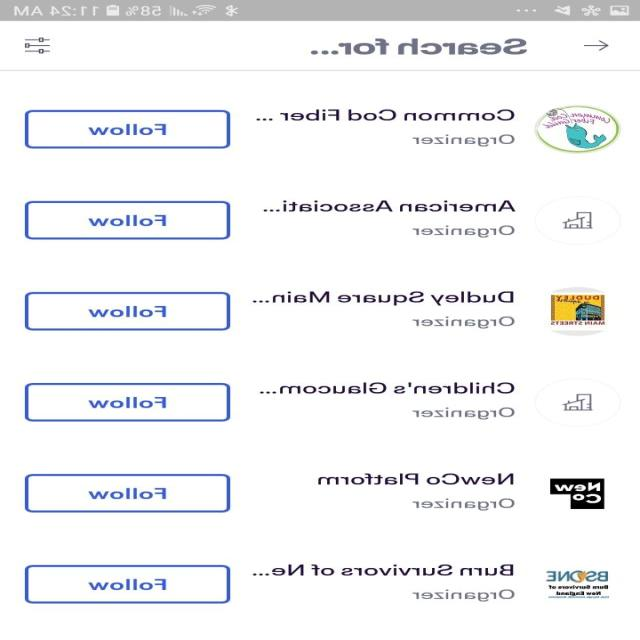Icon: (24, 37, 52, 54), (584, 40, 610, 51)
Image: (534, 105, 622, 154), (534, 196, 622, 244), (534, 378, 620, 427), (550, 286, 606, 336), (546, 570, 609, 598), (550, 478, 606, 509)
Text: (253, 290, 515, 306), (311, 38, 528, 55), (260, 381, 516, 394), (252, 564, 514, 576), (256, 109, 516, 121), (264, 200, 516, 212), (318, 472, 515, 485), (412, 588, 516, 602), (412, 406, 516, 419), (412, 225, 516, 238), (412, 498, 516, 510), (412, 134, 516, 146), (412, 316, 514, 328)
TextButton: (25, 564, 231, 604), (25, 473, 231, 513), (25, 382, 231, 422), (25, 291, 231, 331), (25, 200, 231, 240), (25, 109, 231, 149)
